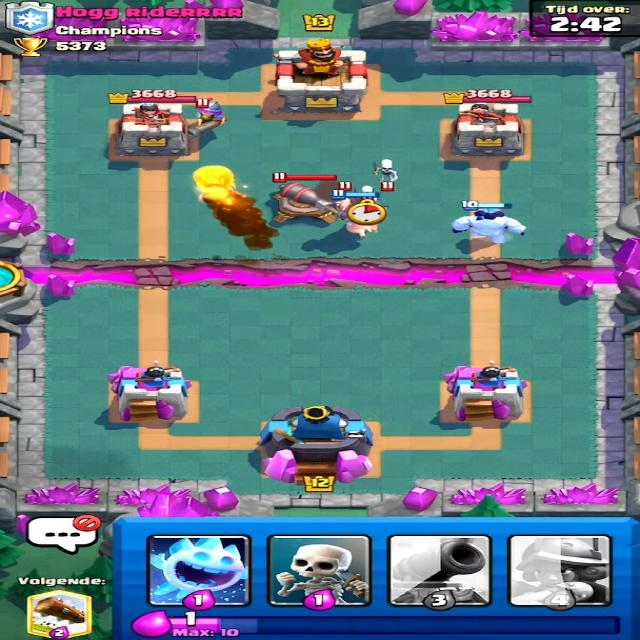Cannon_Card: (390, 531, 481, 602)
Enemy_Cannon_Troop: (265, 183, 337, 222)
Enemy_Musketeer_Troop: (191, 96, 237, 138)
Fireball_Troop: (194, 165, 240, 205)
Ice_Golem_Troop: (444, 206, 527, 244)
Ice_Spirit_Card: (152, 535, 252, 610)
Musketeer_Card: (512, 534, 610, 606)
Skeleton_Card: (271, 538, 366, 604)
